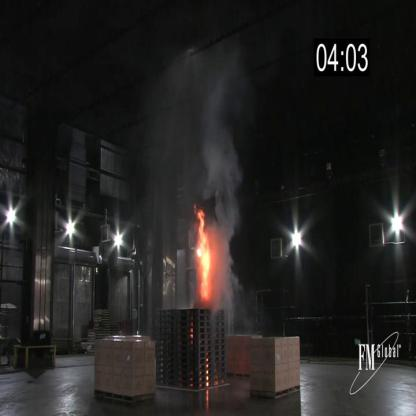fire: (188, 186, 214, 306)
